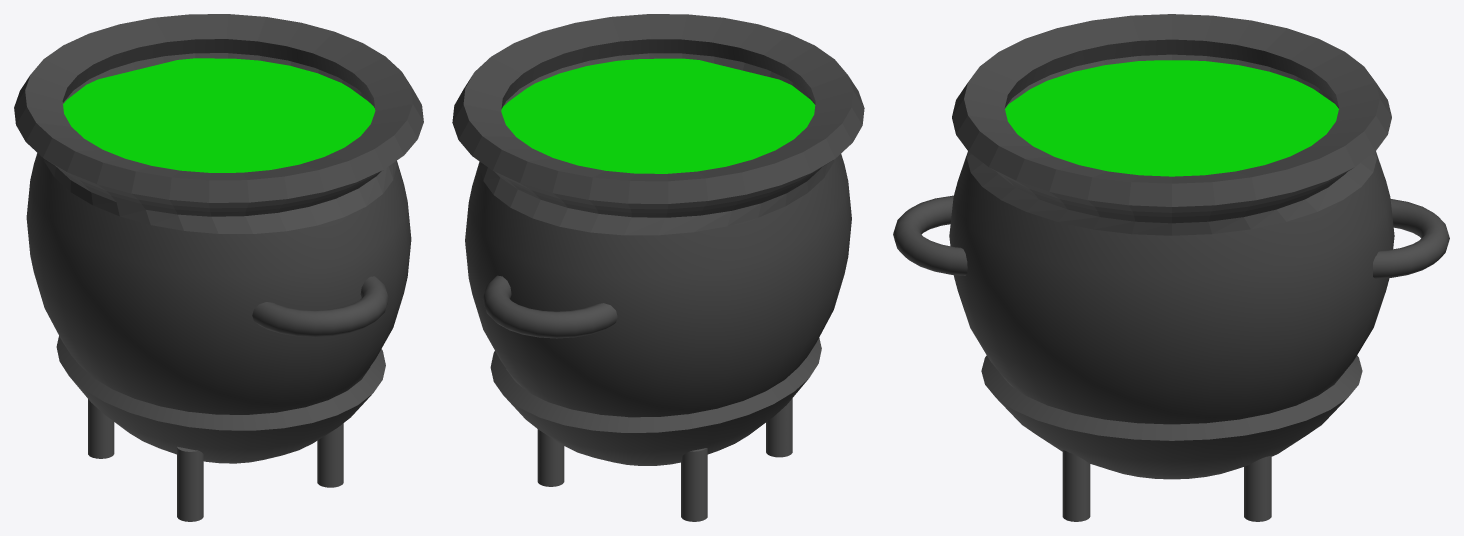
Rendered from Marmite.fbx.
3 views of the same model, side by side, from view 1: azimuth 30°, elevation 25°; view 2: azimuth 150°, elevation 25°; view 3: azimuth 270°, elevation 25° (orthographic). The views are drawn at different scales.
Parts seen in each view (by area): view 1: Sphere003; view 2: Sphere003; view 3: Sphere003.
Part boxes in pixels (x1,y1,x2,y2): Sphere003: (14, 14, 423, 521); Sphere003: (452, 14, 864, 521); Sphere003: (893, 14, 1449, 521).
Bounding box in the file's own units: 50.45 × 50.31 × 66.19.
